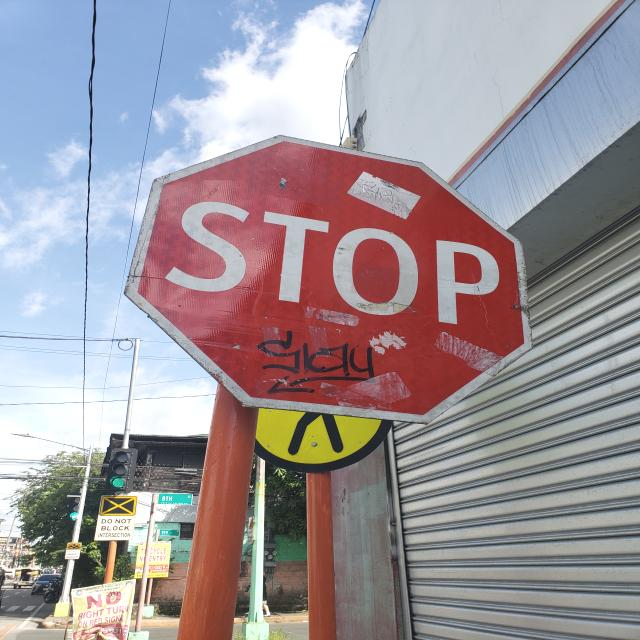stop-sign: (123, 132, 534, 426)
